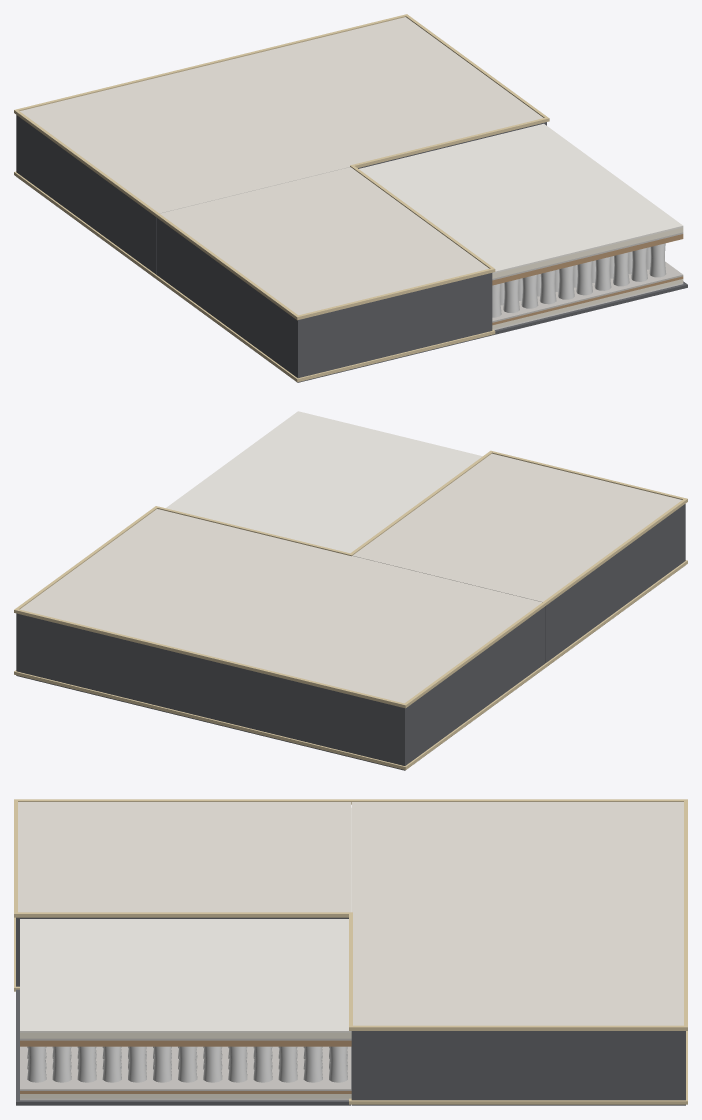
The model's file is eluna-balance.glb.
3 views of the same model, one above another, from view 1: azimuth 30°, elevation 25°; view 2: azimuth 150°, elevation 25°; view 3: azimuth 270°, elevation 25° (orthographic). The views are drawn at different scales.
Visible parts, largest first — view 1: Eluna Balance; view 2: Eluna Balance; view 3: Eluna Balance.
Part boxes in pixels (x1=…): Eluna Balance: x1=14, y1=14, x2=687, y2=382; Eluna Balance: x1=14, y1=411, x2=687, y2=770; Eluna Balance: x1=14, y1=799, x2=687, y2=1105.
Bounding box in the file's own units: 1.61 × 0.261 × 2.01.
